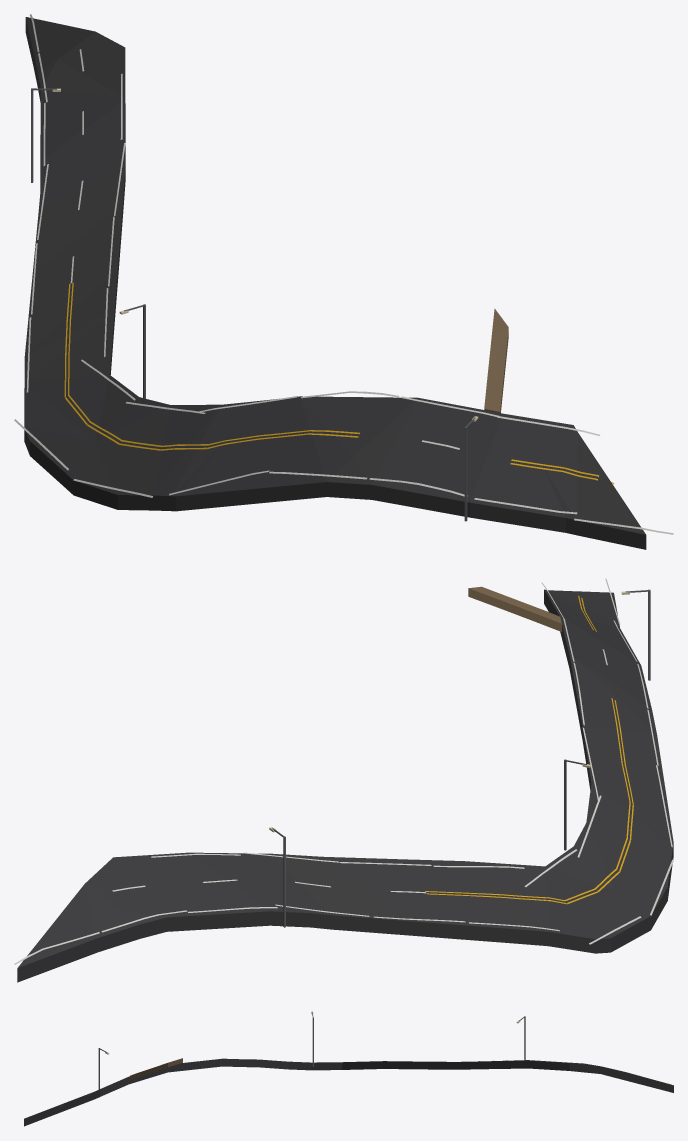
3 views of the same model, one above another, from view 1: azimuth 30°, elevation 25°; view 2: azimuth 150°, elevation 25°; view 3: azimuth 270°, elevation 25° (orthographic). The views are drawn at different scales.
Size of the model in its own units: 27.23 by 16.86 by 91.49.
